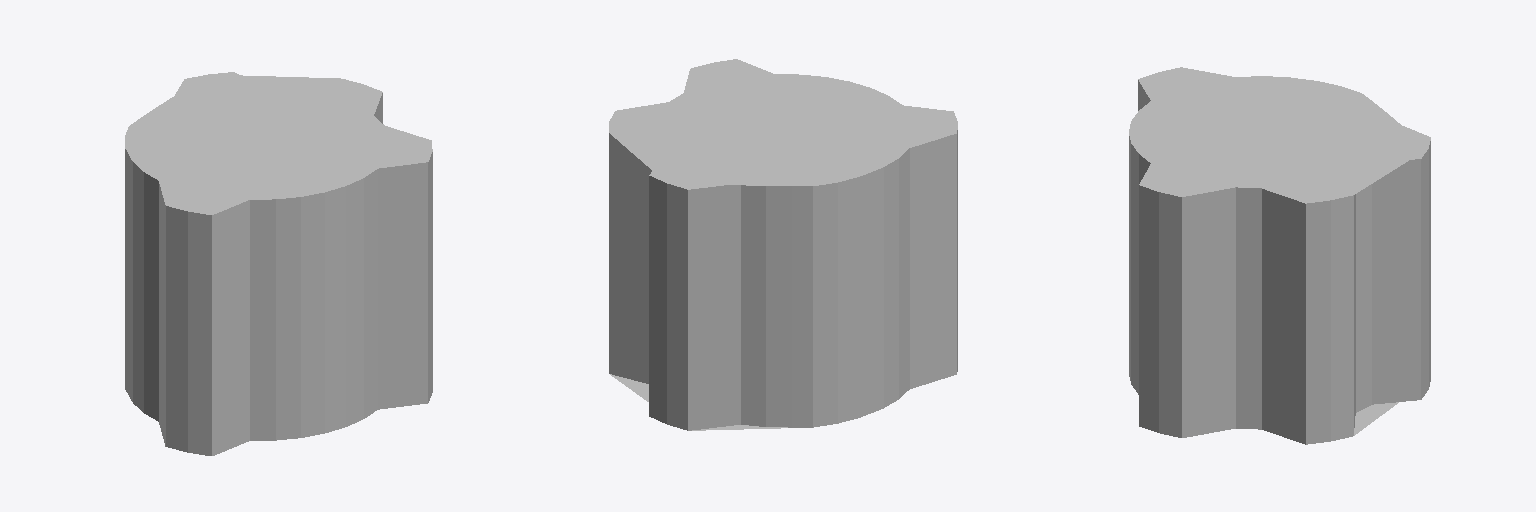
Rendered from hollows_lantern.obj.
The picture shows the model from 3 angles: view 1: azimuth 30°, elevation 25°; view 2: azimuth 150°, elevation 25°; view 3: azimuth 270°, elevation 25°; orthographic projection.
Parts seen in each view (by area): view 1: Hollow's_Lantern; view 2: Hollow's_Lantern; view 3: Hollow's_Lantern.
Part boxes in pixels (x1,y1,x2,y2): Hollow's_Lantern: (125, 72, 432, 455); Hollow's_Lantern: (609, 59, 957, 430); Hollow's_Lantern: (1129, 67, 1430, 444).
Size of the model in its own units: 1.21 by 1 by 1.14.